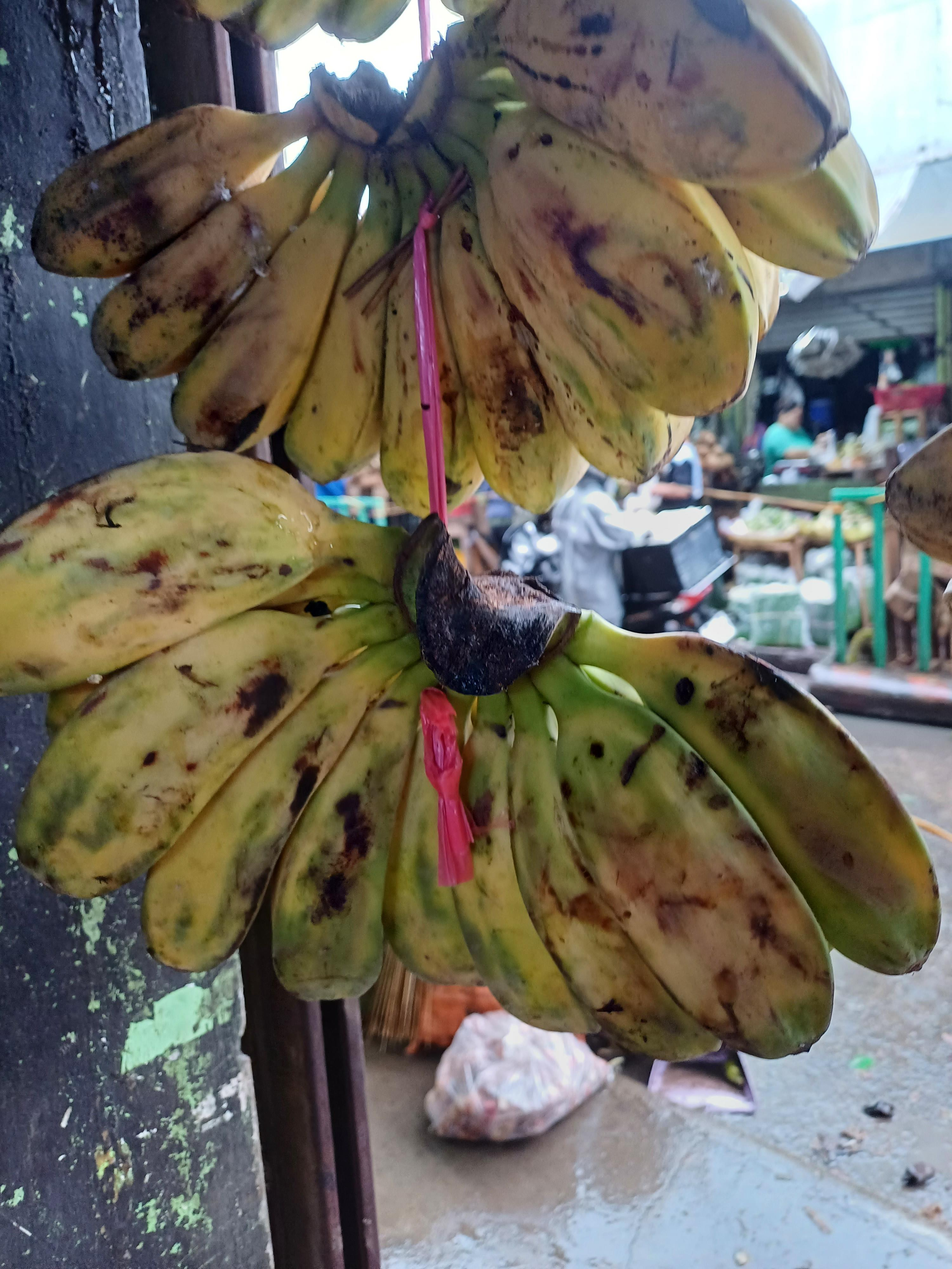ripe: (33, 3, 879, 519)
underripe: (0, 453, 940, 1061)
